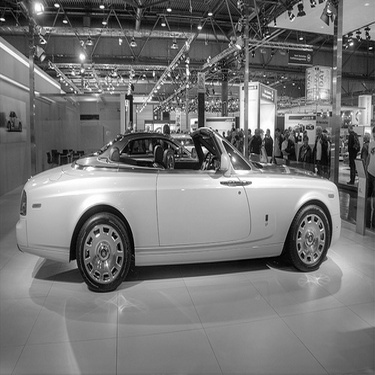car: (3, 113, 353, 288), (149, 128, 215, 174)
